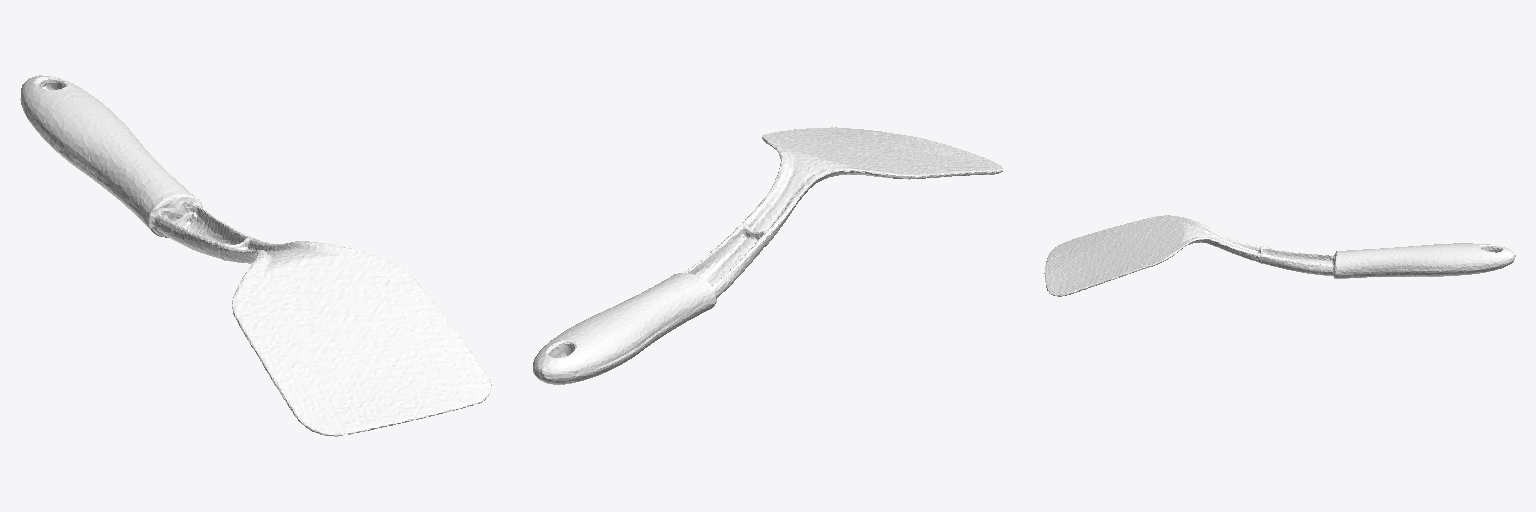
URDF robot description (spatula):
<robot name="spatula">
    <link name="base_link">
        <visual>
            <origin xyz="0.0 -0.0 0.0" rpy="0.0 0.0 0.0" />
            <geometry>
                <mesh filename="spatula/textured.obj" scale="1 1 1" />
            </geometry>
            <material name="texture">
                <color rgba="1.0 1.0 1.0 1.0" />
            </material>
        </visual>
        <collision>
            <origin xyz="0.0 -0.0 0.0" rpy="0.0 0.0 0.0" />
            <geometry>
                <mesh filename="spatula/textured_coacd_0.stl" scale="1 1 1" />
            </geometry>
        </collision>
        <collision>
            <origin xyz="0.0 -0.0 0.0" rpy="0.0 0.0 0.0" />
            <geometry>
                <mesh filename="spatula/textured_coacd_1.stl" scale="1 1 1" />
            </geometry>
        </collision>
        <collision>
            <origin xyz="0.0 -0.0 0.0" rpy="0.0 0.0 0.0" />
            <geometry>
                <mesh filename="spatula/textured_coacd_2.stl" scale="1 1 1" />
            </geometry>
        </collision>
        <collision>
            <origin xyz="0.0 -0.0 0.0" rpy="0.0 0.0 0.0" />
            <geometry>
                <mesh filename="spatula/textured_coacd_3.stl" scale="1 1 1" />
            </geometry>
        </collision>
        <inertial>
            <mass value="0.0515" />
            <inertia ixx="1e-3" ixy="0.0" ixz="0.0" iyy="1e-3" iyz="0.0" izz="1e-3" />
        </inertial>
    </link>
</robot>

--- Facts derived from the render (not from the file) ---
3 views of the same robot in one strip: view 1: azimuth 30°, elevation 25°; view 2: azimuth 150°, elevation 25°; view 3: azimuth 270°, elevation 25° (orthographic).
Robot: spatula — 1 links, 0 joints (none); root link base_link; default pose: all joints at 0.
Links seen in each view (by area): view 1: base_link; view 2: base_link; view 3: base_link.
Boxes of the visible links, <box> form: base_link: <box>20,75,491,436</box>; base_link: <box>533,127,1002,384</box>; base_link: <box>1044,215,1515,296</box>.
Size in the robot's own frame: 0.0836 by 0.311 by 0.0329 metres.
Meshes: 1 distinct files referenced, 1 mesh visuals loaded (1 OBJ).